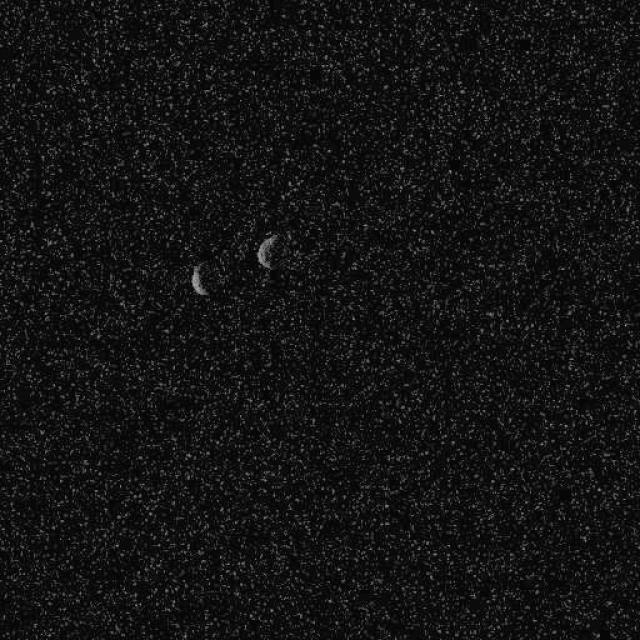D2: (255, 232, 279, 270), (190, 264, 209, 296)
